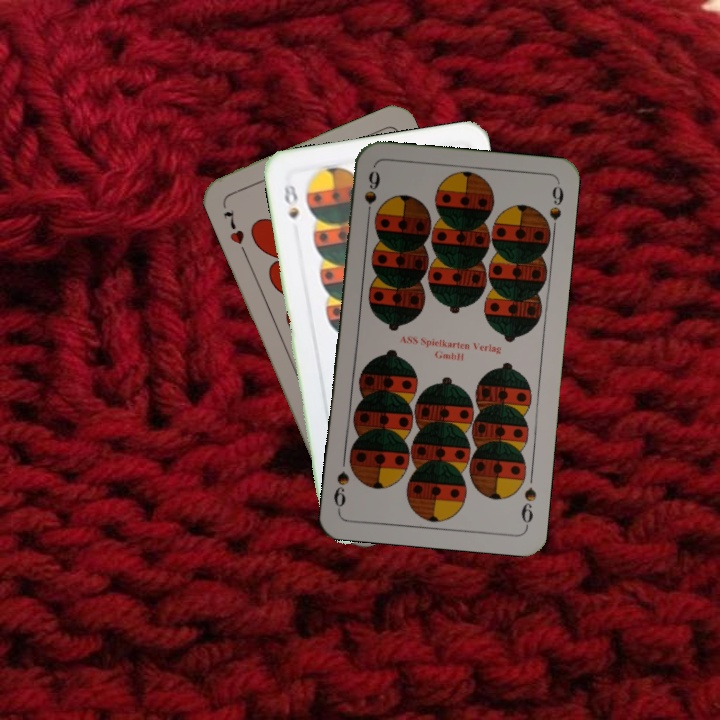H7: (219, 205, 247, 247)
S8: (280, 181, 302, 221)
S9: (360, 167, 383, 224), (517, 483, 539, 530)
